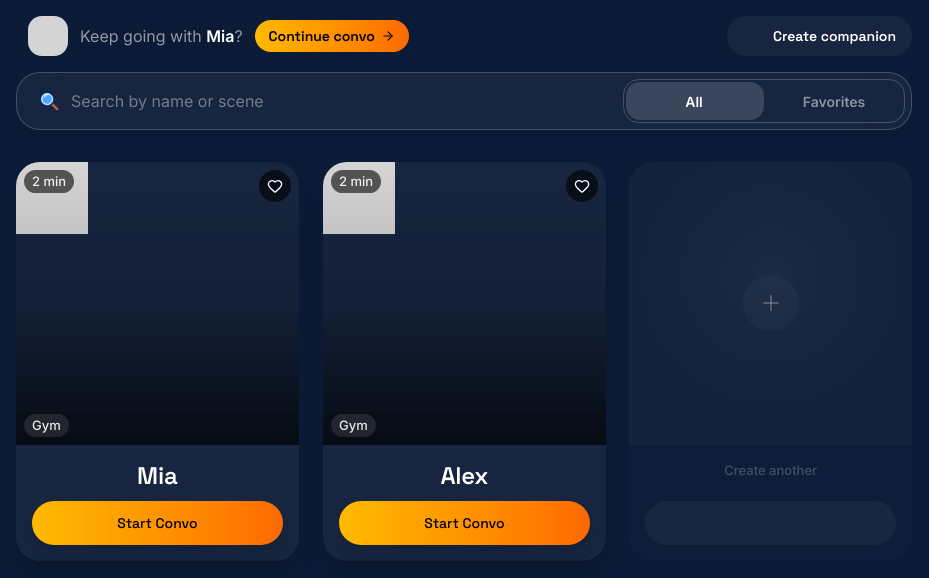
DashboardCompanionList › shows an empty favorites state and returns to All
The image size is (929, 578).
What coordinates should you click on to do the following:
click the radio button labelled "Favorites"
I would click on:
 (834, 102)
Its box is [764,80,904,124].
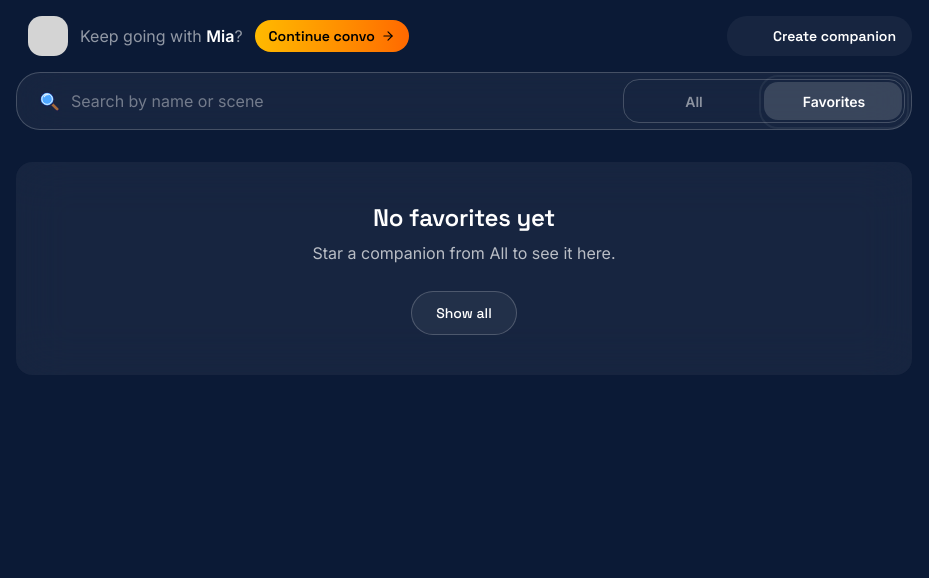
expect the heading "No favorites yet" is shown: met, box [373,202,555,233]
What coordinates should you click on to do the following:
click the button "Show all"
I would click on:
 (464, 313)
Its box is [411,291,517,335].
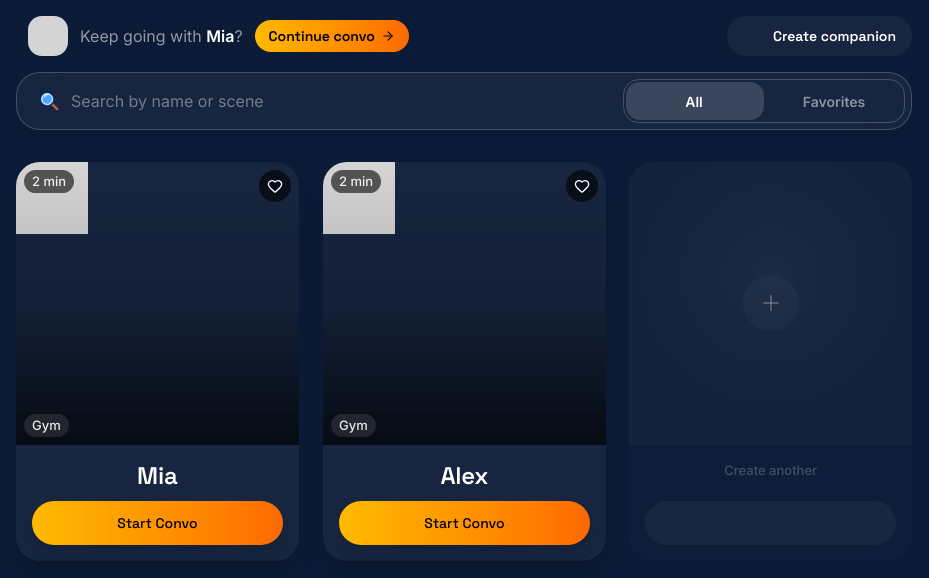
expect the heading "Mia" is shown: met, box [137,460,178,491]
expect the heading "Alex" is shown: met, box [440,460,488,491]
